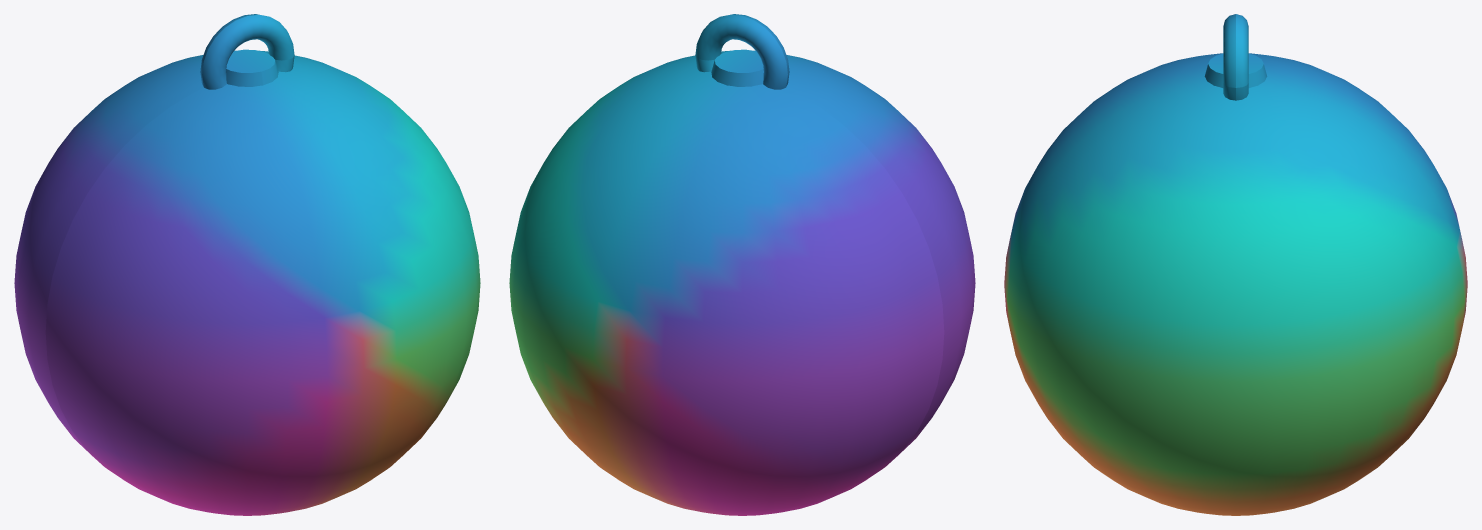
Rendered from orb-04-bauble.glb.
3 renders of one model, left to right at view 1: azimuth 30°, elevation 25°; view 2: azimuth 150°, elevation 25°; view 3: azimuth 270°, elevation 25°, orthographic.
Parts seen in each view (by area): view 1: bauble; view 2: bauble; view 3: bauble.
Boxes of the visible parts, bbox=[...] form: bauble: bbox=[14, 14, 480, 515]; bauble: bbox=[509, 14, 975, 515]; bauble: bbox=[1004, 14, 1467, 515].
Size of the model in its own units: 1.77 by 2 by 1.77.
